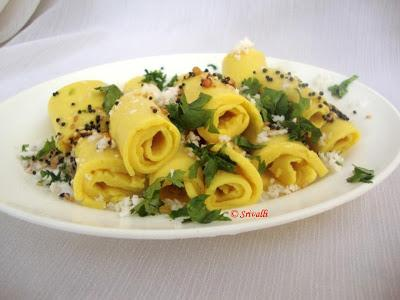khandvi: (34, 57, 400, 208)
